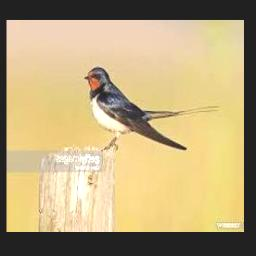Swallow: (84, 66, 219, 150)
